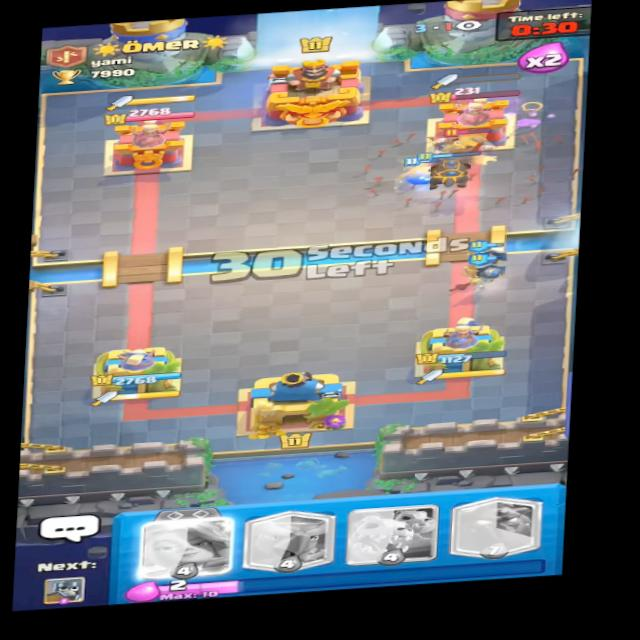knight: (436, 122, 506, 169)
